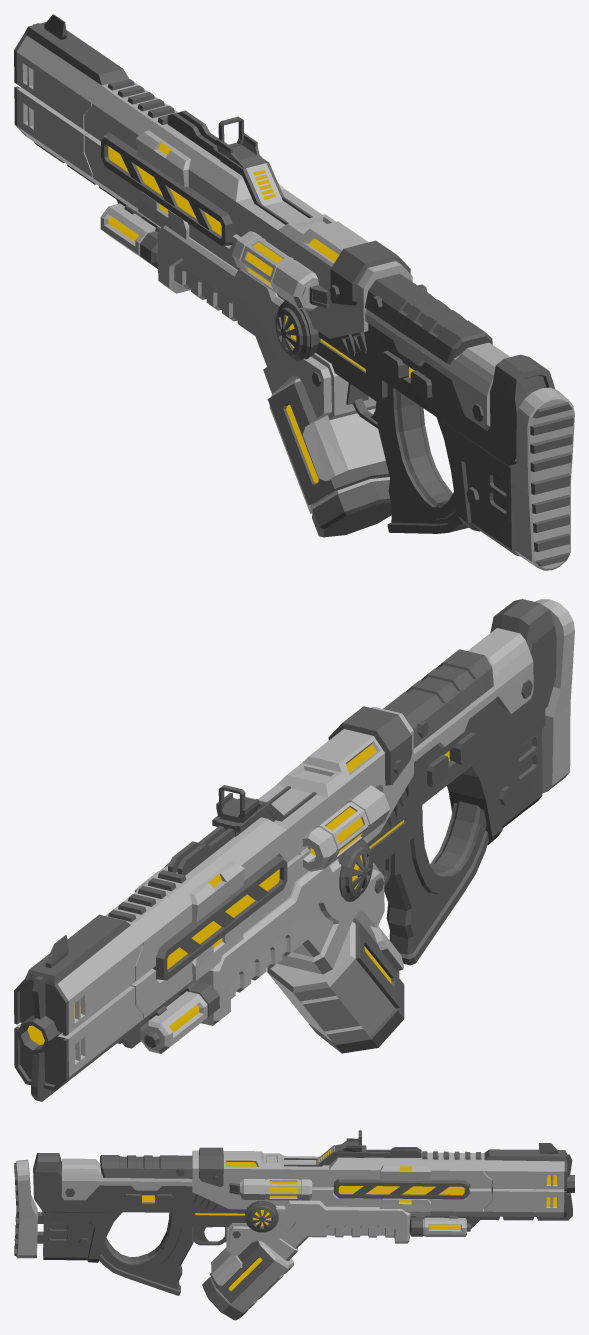
File: remake_464.glb
3 views of the same model, one above another, from view 1: azimuth 30°, elevation 25°; view 2: azimuth 150°, elevation 25°; view 3: azimuth 270°, elevation 25° (orthographic). The views are drawn at different scales.
Parts seen in each view (by area): view 1: remake_464; view 2: remake_464; view 3: remake_464.
Part boxes in pixels (x1,y1,x2,y2): remake_464: [14, 14, 574, 570]; remake_464: [14, 599, 574, 1101]; remake_464: [14, 1130, 574, 1320].
Bounding box in the file's own units: 0.1529 × 0.5056 × 1.4.
